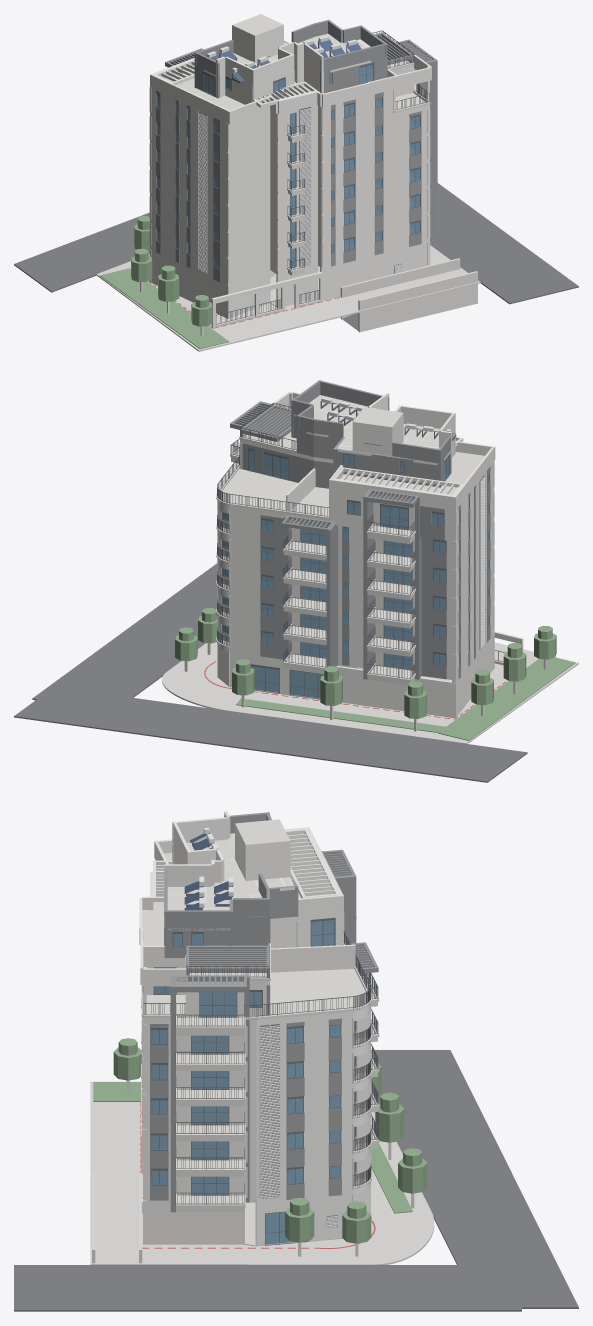
Rendered from pines48_model.glb.
3 renders of one model, top to bottom at view 1: azimuth 30°, elevation 25°; view 2: azimuth 150°, elevation 25°; view 3: azimuth 270°, elevation 25°, orthographic. The views are drawn at different scales.
Parts seen in each view (by area): view 1: 1_floors_1_to_5__mat_D_white_plaster, 0_site_and_ground__mat_road_asphalt, 0_site_and_ground__mat_D_white_plaster, 1_floors_1_to_5__mat_B_gray_plaster, 3_floor_7_penthouse__mat_D_white_plaster, 2_floor_6_penthouse__mat_D_white_plaster, 0_site_and_ground__mat_concrete_curb, 0_site_and_ground__mat_site_ground, 0_site_and_ground__mat_landscape_green, 1_floors_1_to_5__mat_alu_frame, 4_upper_roof_and_tower__mat_D_white_plaster, 1_floors_1_to_5__mat_C_white_louvers (+13 smaller); view 2: 0_site_and_ground__mat_road_asphalt, 1_floors_1_to_5__mat_D_white_plaster, 1_floors_1_to_5__mat_B_gray_plaster, 0_site_and_ground__mat_landscape_green, 0_site_and_ground__mat_site_ground, 1_floors_1_to_5__mat_window_glass, 0_site_and_ground__mat_D_white_plaster, 3_floor_7_penthouse__mat_B_gray_plaster, 3_floor_7_penthouse__mat_D_white_plaster, 1_floors_1_to_5__mat_A_iron_railing, 2_floor_6_penthouse__mat_D_white_plaster, 1_floors_1_to_5__mat_concrete_curb (+14 smaller); view 3: 0_site_and_ground__mat_road_asphalt, 0_site_and_ground__mat_site_ground, 1_floors_1_to_5__mat_D_white_plaster, 1_floors_1_to_5__mat_B_gray_plaster, 0_site_and_ground__mat_landscape_green, 3_floor_7_penthouse__mat_B_gray_plaster, 2_floor_6_penthouse__mat_D_white_plaster, 1_floors_1_to_5__mat_window_glass, 0_site_and_ground__mat_D_white_plaster, 3_floor_7_penthouse__mat_D_white_plaster, 4_upper_roof_and_tower__mat_D_white_plaster, 1_floors_1_to_5__mat_alu_frame (+16 smaller).
Part boxes in pixels (left/top/right/bottom): 1_floors_1_to_5__mat_D_white_plaster: left=149, top=109, right=430, bottom=285; 0_site_and_ground__mat_road_asphalt: left=14, top=183, right=578, bottom=330; 0_site_and_ground__mat_D_white_plaster: left=149, top=242, right=430, bottom=328; 1_floors_1_to_5__mat_B_gray_plaster: left=156, top=48, right=437, bottom=281; 3_floor_7_penthouse__mat_D_white_plaster: left=150, top=58, right=413, bottom=124; 2_floor_6_penthouse__mat_D_white_plaster: left=149, top=55, right=431, bottom=152; 0_site_and_ground__mat_concrete_curb: left=140, top=258, right=477, bottom=335; 0_site_and_ground__mat_site_ground: left=96, top=245, right=480, bottom=351; 0_site_and_ground__mat_landscape_green: left=100, top=216, right=229, bottom=349; 1_floors_1_to_5__mat_alu_frame: left=156, top=106, right=421, bottom=273; 4_upper_roof_and_tower__mat_D_white_plaster: left=203, top=25, right=371, bottom=87; 1_floors_1_to_5__mat_C_white_louvers: left=197, top=107, right=311, bottom=274; 0_site_and_ground__mat_road_asphalt: left=14, top=563, right=527, bottom=782; 1_floors_1_to_5__mat_D_white_plaster: left=217, top=492, right=494, bottom=683; 1_floors_1_to_5__mat_B_gray_plaster: left=259, top=401, right=490, bottom=679; 0_site_and_ground__mat_landscape_green: left=175, top=608, right=575, bottom=740; 0_site_and_ground__mat_site_ground: left=162, top=642, right=578, bottom=743; 1_floors_1_to_5__mat_window_glass: left=222, top=503, right=489, bottom=669; 0_site_and_ground__mat_D_white_plaster: left=217, top=631, right=523, bottom=718; 3_floor_7_penthouse__mat_B_gray_plaster: left=230, top=402, right=450, bottom=507; 3_floor_7_penthouse__mat_D_white_plaster: left=240, top=430, right=495, bottom=510; 1_floors_1_to_5__mat_A_iron_railing: left=217, top=474, right=415, bottom=679; 2_floor_6_penthouse__mat_D_white_plaster: left=217, top=391, right=494, bottom=541; 1_floors_1_to_5__mat_concrete_curb: left=216, top=524, right=415, bottom=685; 0_site_and_ground__mat_road_asphalt: left=14, top=1050, right=578, bottom=1311; 0_site_and_ground__mat_site_ground: left=90, top=1081, right=434, bottom=1264; 1_floors_1_to_5__mat_D_white_plaster: left=141, top=985, right=371, bottom=1202; 1_floors_1_to_5__mat_B_gray_plaster: left=142, top=851, right=366, bottom=1212; 0_site_and_ground__mat_landscape_green: left=93, top=1038, right=427, bottom=1243; 3_floor_7_penthouse__mat_B_gray_plaster: left=164, top=849, right=355, bottom=992; 2_floor_6_penthouse__mat_D_white_plaster: left=140, top=912, right=370, bottom=1025; 1_floors_1_to_5__mat_window_glass: left=151, top=1021, right=355, bottom=1194; 0_site_and_ground__mat_D_white_plaster: left=141, top=1064, right=370, bottom=1246; 3_floor_7_penthouse__mat_D_white_plaster: left=139, top=827, right=343, bottom=984; 4_upper_roof_and_tower__mat_D_white_plaster: left=164, top=811, right=294, bottom=930; 1_floors_1_to_5__mat_alu_frame: left=142, top=1015, right=359, bottom=1198.
Bounding box in the file's own units: 48.5 × 31.17 × 44.5.
